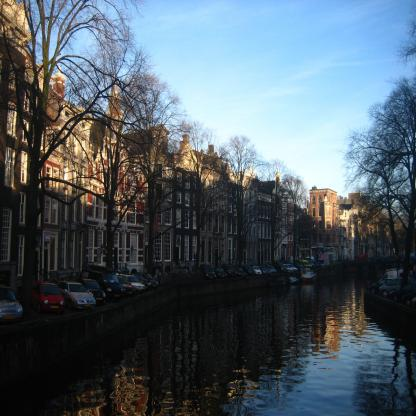Car: (32, 270, 157, 312), (198, 264, 320, 282), (0, 284, 24, 322), (382, 274, 407, 300), (371, 274, 397, 295)
